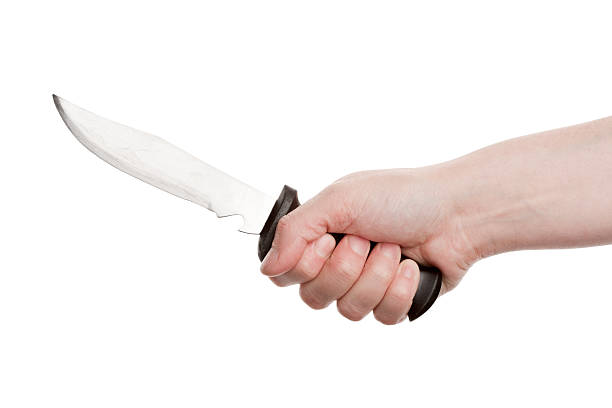knife: (49, 89, 443, 324)
